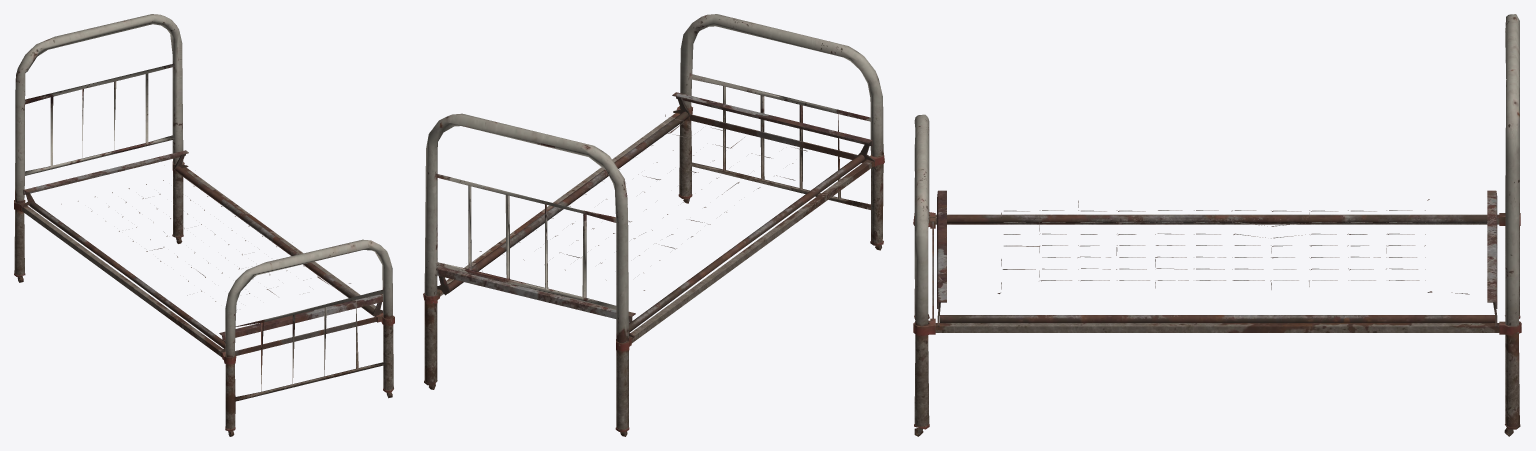
File: old_bed_frame.glb
The picture shows the model from 3 angles, left to right: view 1: azimuth 30°, elevation 25°; view 2: azimuth 150°, elevation 25°; view 3: azimuth 270°, elevation 25°; orthographic projection. The views are drawn at different scales.
Parts seen in each view (by area): view 1: old_bed_frame; view 2: old_bed_frame; view 3: old_bed_frame.
Part boxes in pixels (box(x1,y1,x2,y2)): old_bed_frame: box(14, 14, 394, 436); old_bed_frame: box(423, 14, 884, 436); old_bed_frame: box(913, 14, 1521, 436).
Size of the model in its own units: 0.9047 by 1.2 by 2.
Materials: 1 (1 with a texture image).
